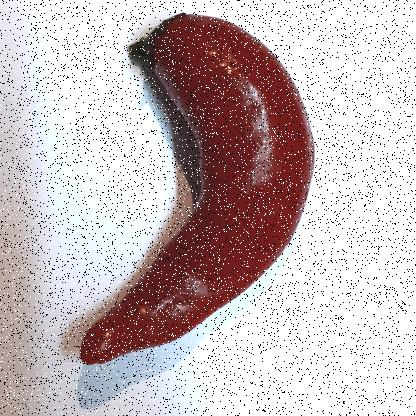chili: (72, 11, 314, 363)
